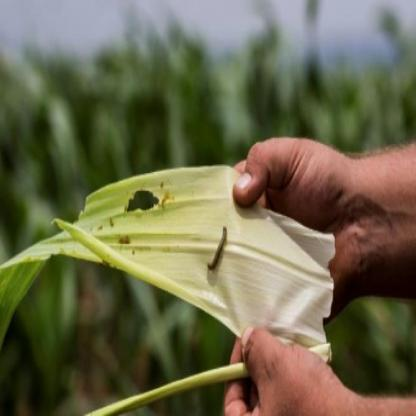armyworm: (204, 223, 231, 276)
